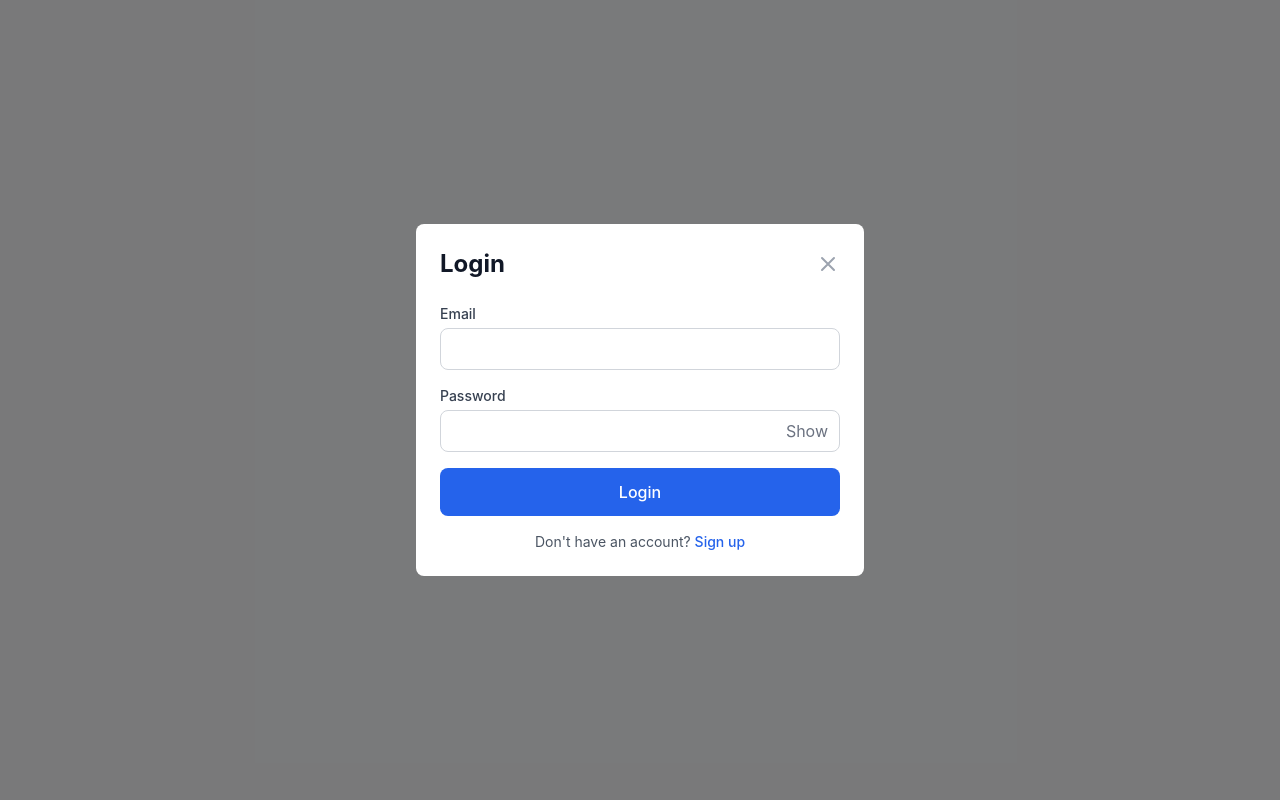
Test: LoginModal - Submission Integration › Error Handling › should display error message when login fails
The width and height of the screenshot is (1280, 800).
# Fill form
In the field labelled "Email": (640, 349) [440, 328, 840, 370], type "test@example.com"
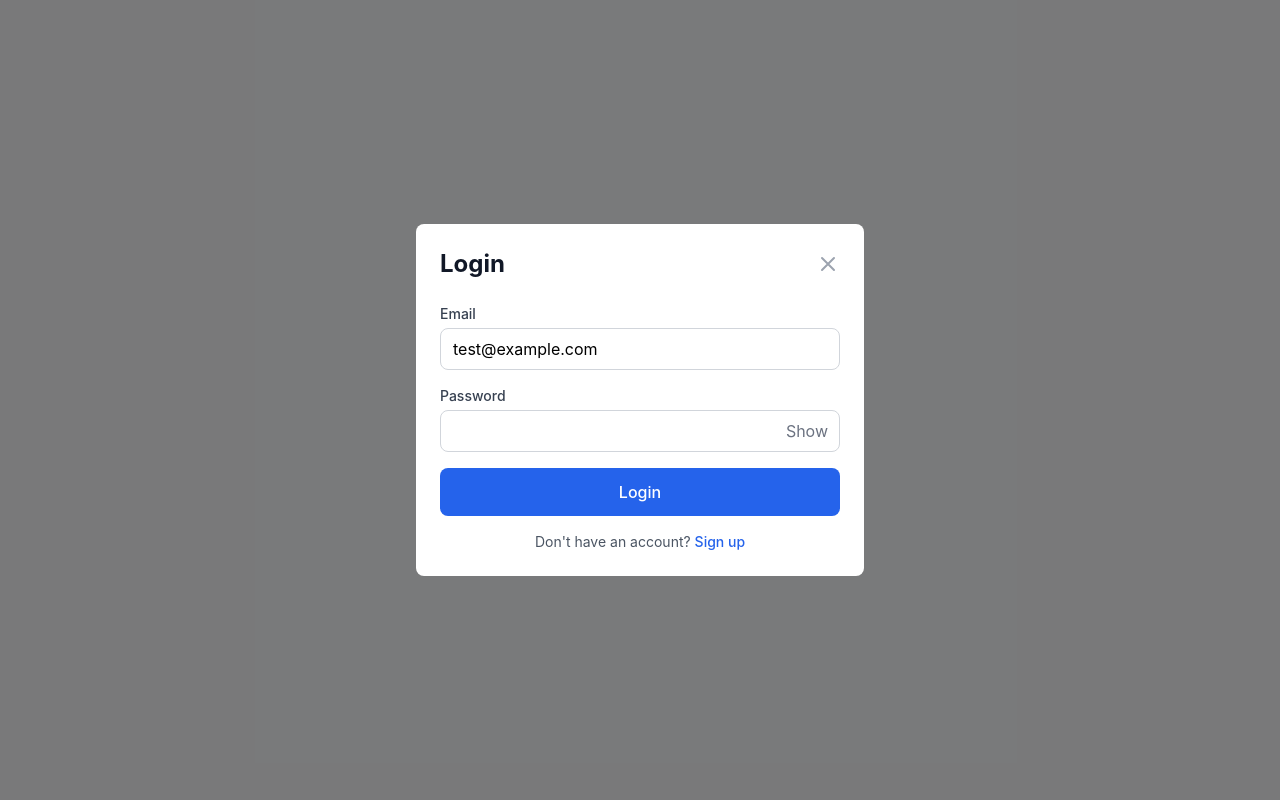
In the password field labelled "Password": (640, 431) [440, 410, 840, 452], type "wrongpassword"
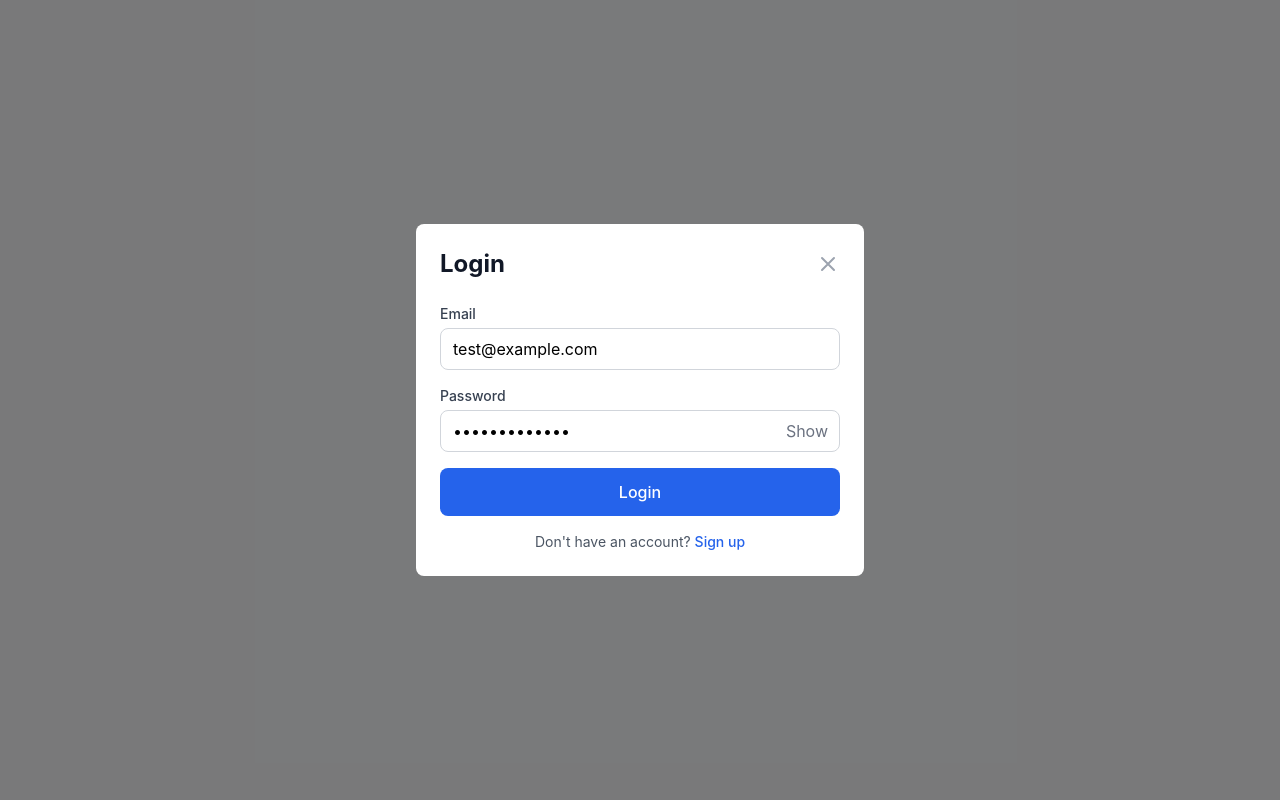
Click the button "Login": (640, 492) [440, 468, 840, 516]
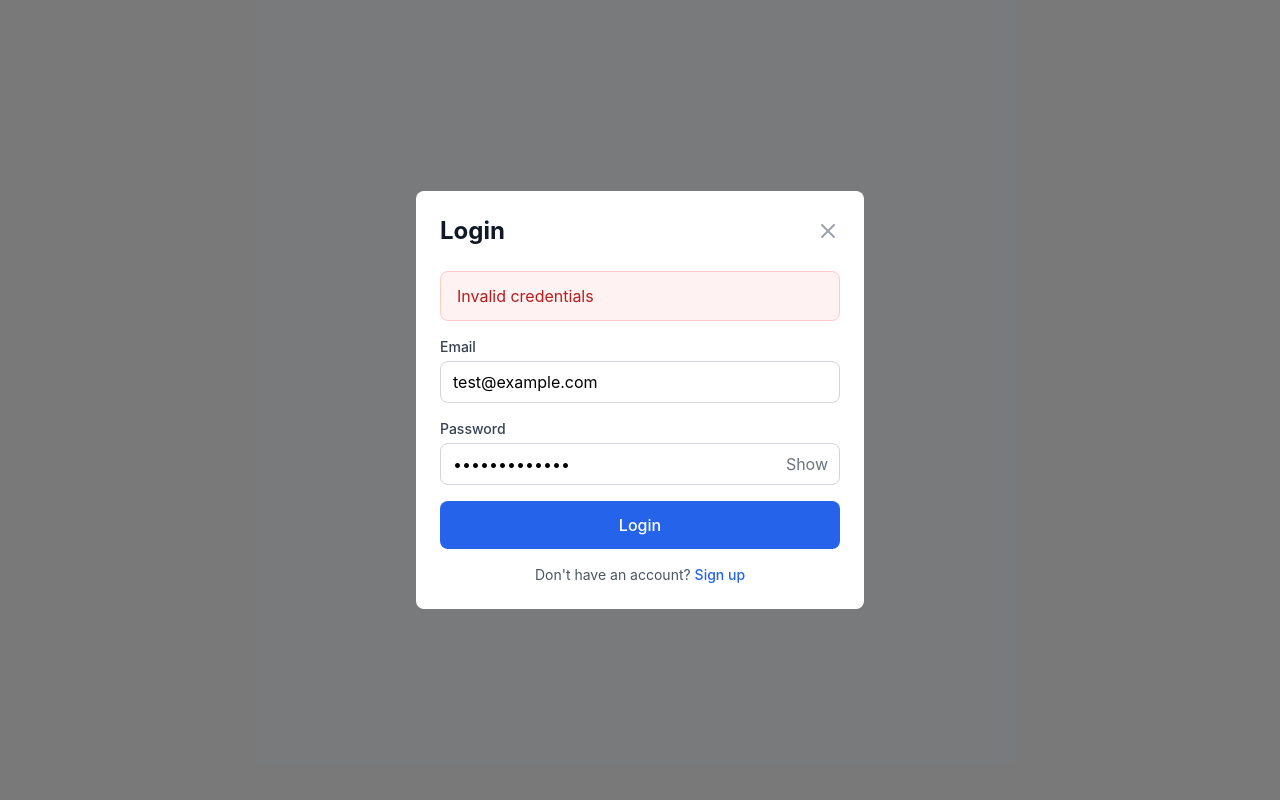
Now the text "Invalid credentials" is shown, box [440, 271, 840, 321]
